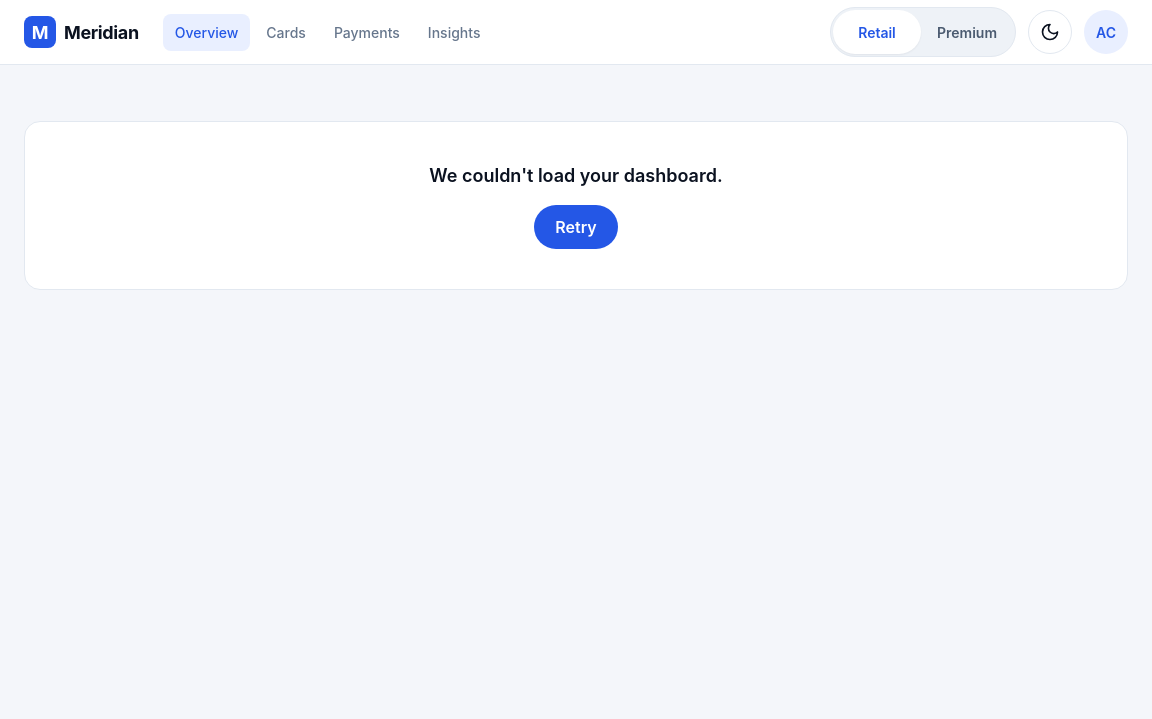
dashboard › shows an error when the dashboard fails and loads after Retry
Check: the text "We couldn't load your dashboard." is shown, box [429,162,723,189]
Click the button "Retry".
click(576, 227)  # box [534,205,618,249]
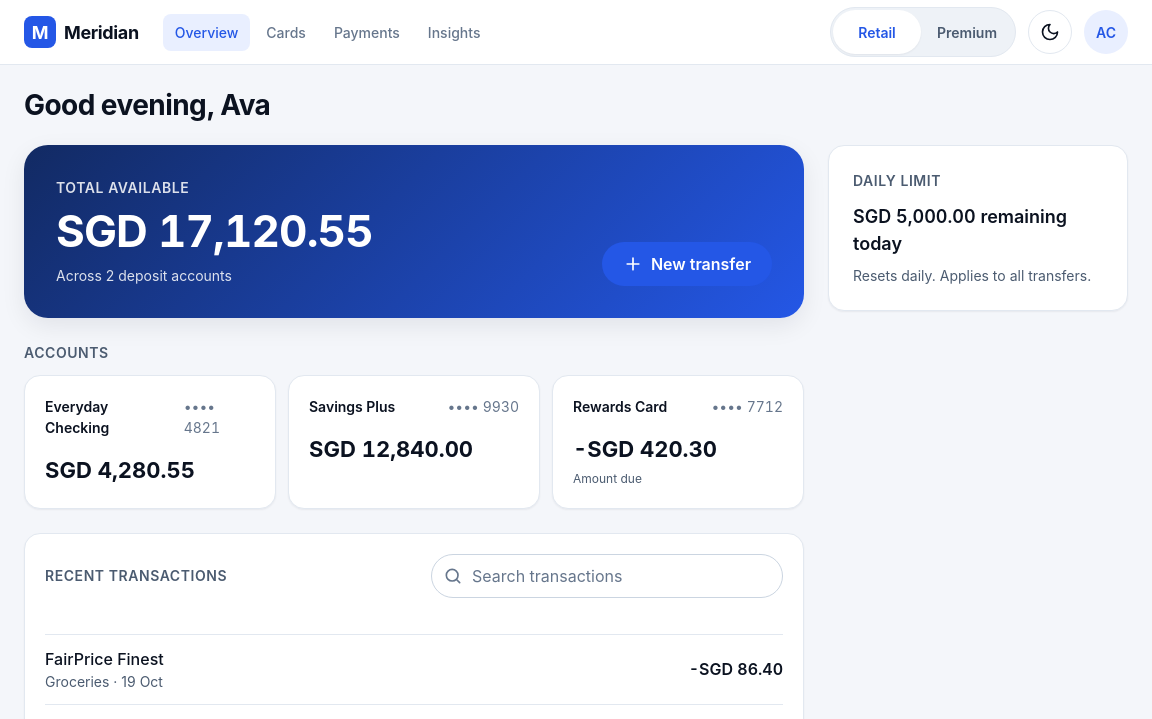
Check: the heading "Good evening, Ava" is shown, box [24,88,270,122]
Check: the text "We couldn't load your dashboard." is gone
